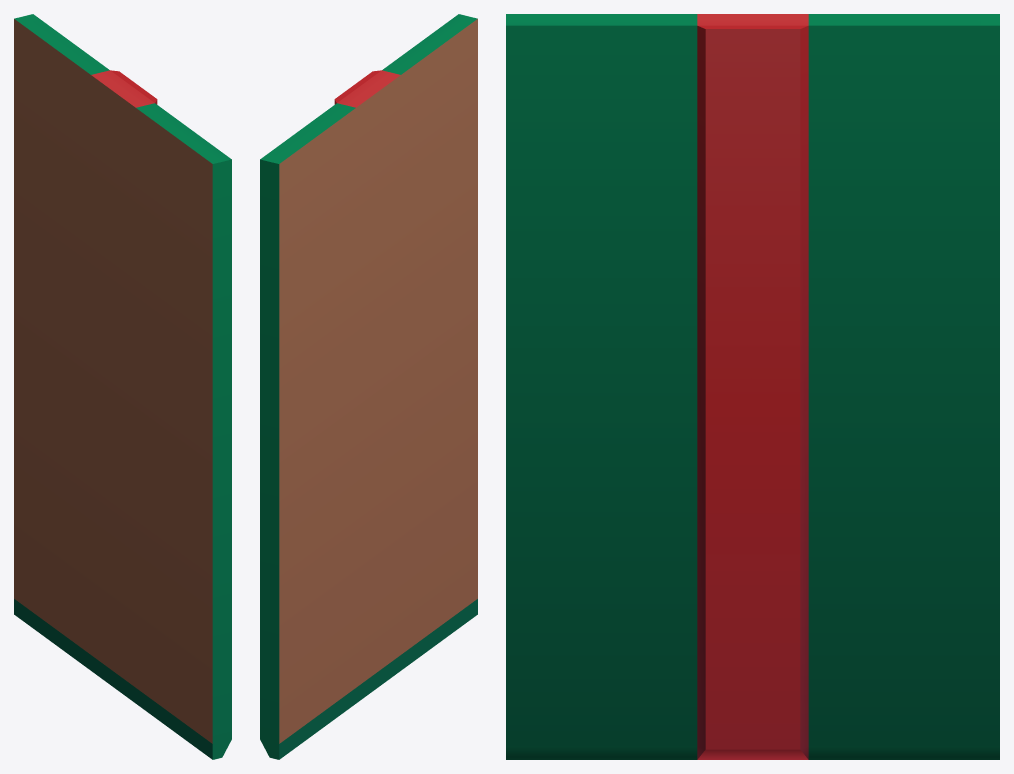
The model's file is Present_Base_Present_Left.obj.
The picture shows the model from 3 angles, left to right: view 1: azimuth 30°, elevation 25°; view 2: azimuth 150°, elevation 25°; view 3: azimuth 270°, elevation 25°; orthographic projection. The views are drawn at different scales.
Parts seen in each view (by area): view 1: Present_Left; view 2: Present_Left; view 3: Present_Left.
Part boxes in pixels (x1,y1,x2,y2): Present_Left: [14, 14, 231, 759]; Present_Left: [260, 14, 477, 759]; Present_Left: [506, 14, 999, 759].
Bounding box in the file's own units: 0.12 × 2.74 × 1.66.
Materials: 1 (1 with a texture image).
